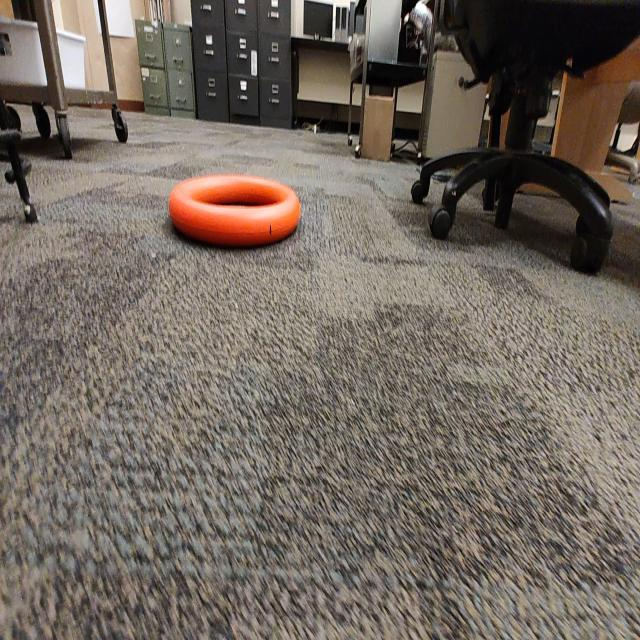note: (166, 170, 302, 248)
